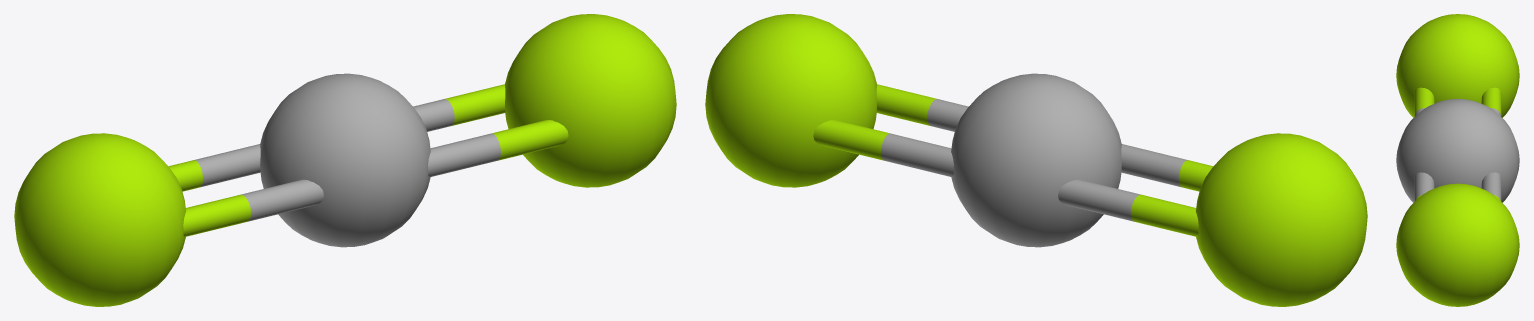
3 renders of one model, left to right at view 1: azimuth 30°, elevation 25°; view 2: azimuth 150°, elevation 25°; view 3: azimuth 270°, elevation 25°, orthographic. The views are drawn at different scales.
Visible parts, largest first — view 1: Be2C; view 2: Be2C; view 3: Be2C.
Boxes of the visible parts, <box> form: Be2C: <box>14,14,676,306</box>; Be2C: <box>705,14,1367,306</box>; Be2C: <box>1396,14,1519,306</box>.
Bounding box in the file's own units: 8.5 × 2 × 2.
